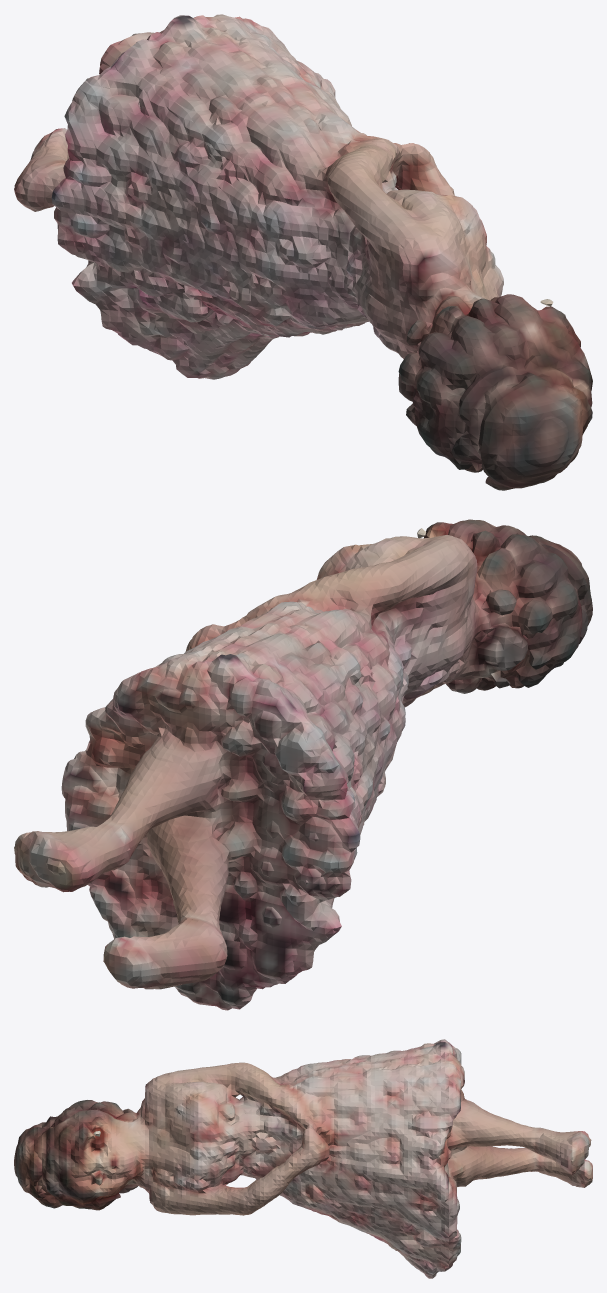
3 renders of one model, top to bottom at view 1: azimuth 30°, elevation 25°; view 2: azimuth 150°, elevation 25°; view 3: azimuth 270°, elevation 25°, orthographic. The views are drawn at different scales.
Parts seen in each view (by area): view 1: world; view 2: world; view 3: world.
Part boxes in pixels (x1=…): world: x1=14, y1=14, x2=592, y2=490; world: x1=14, y1=519, x2=592, y2=1010; world: x1=14, y1=1039, x2=592, y2=1278.
Bounding box in the file's own units: 0.3471 × 0.4077 × 0.961.
